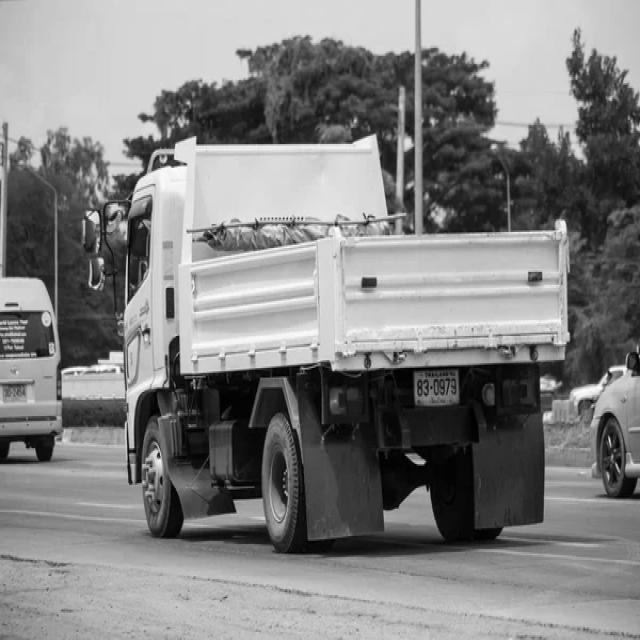Car: (0, 278, 62, 462), (592, 353, 640, 498)
Truck: (122, 134, 570, 552)
